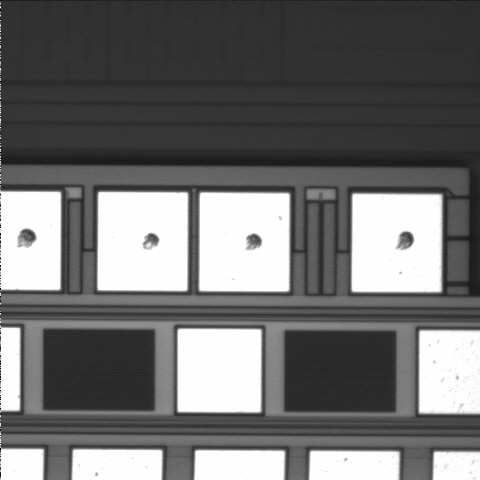pad: (199, 193, 290, 291), (98, 192, 188, 291), (352, 194, 442, 292), (178, 329, 261, 412)
